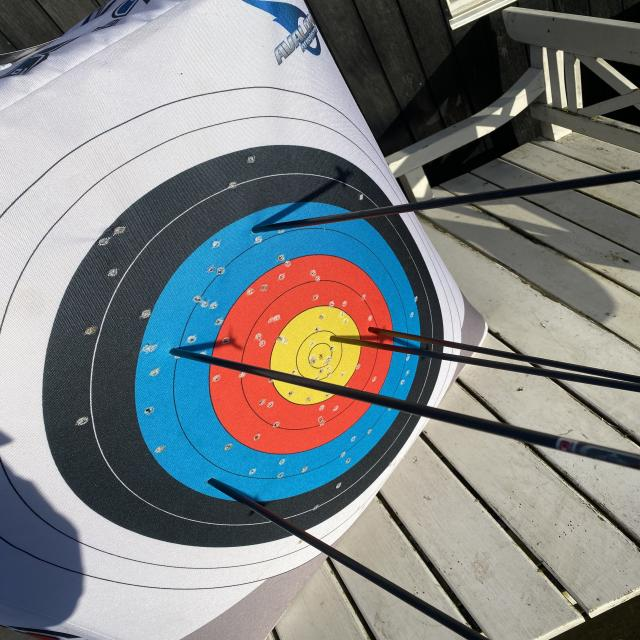Arrow_Blue: (232, 215, 275, 250), (199, 470, 243, 497), (166, 336, 190, 373)
Arrow_Red: (356, 312, 392, 340)
Arrow_Yellow: (320, 326, 351, 352)
